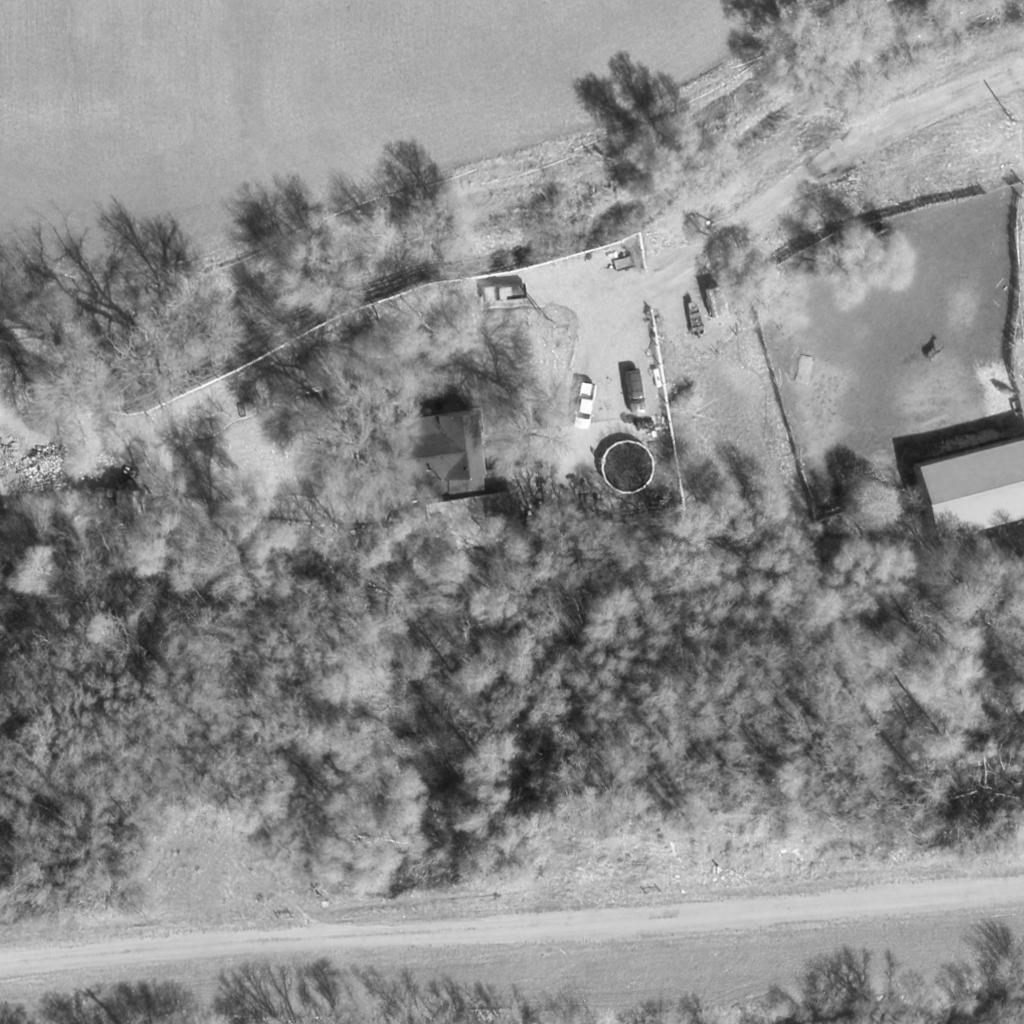vehicle: (624, 369, 646, 415), (576, 382, 596, 430), (684, 302, 708, 336), (482, 287, 528, 303)
